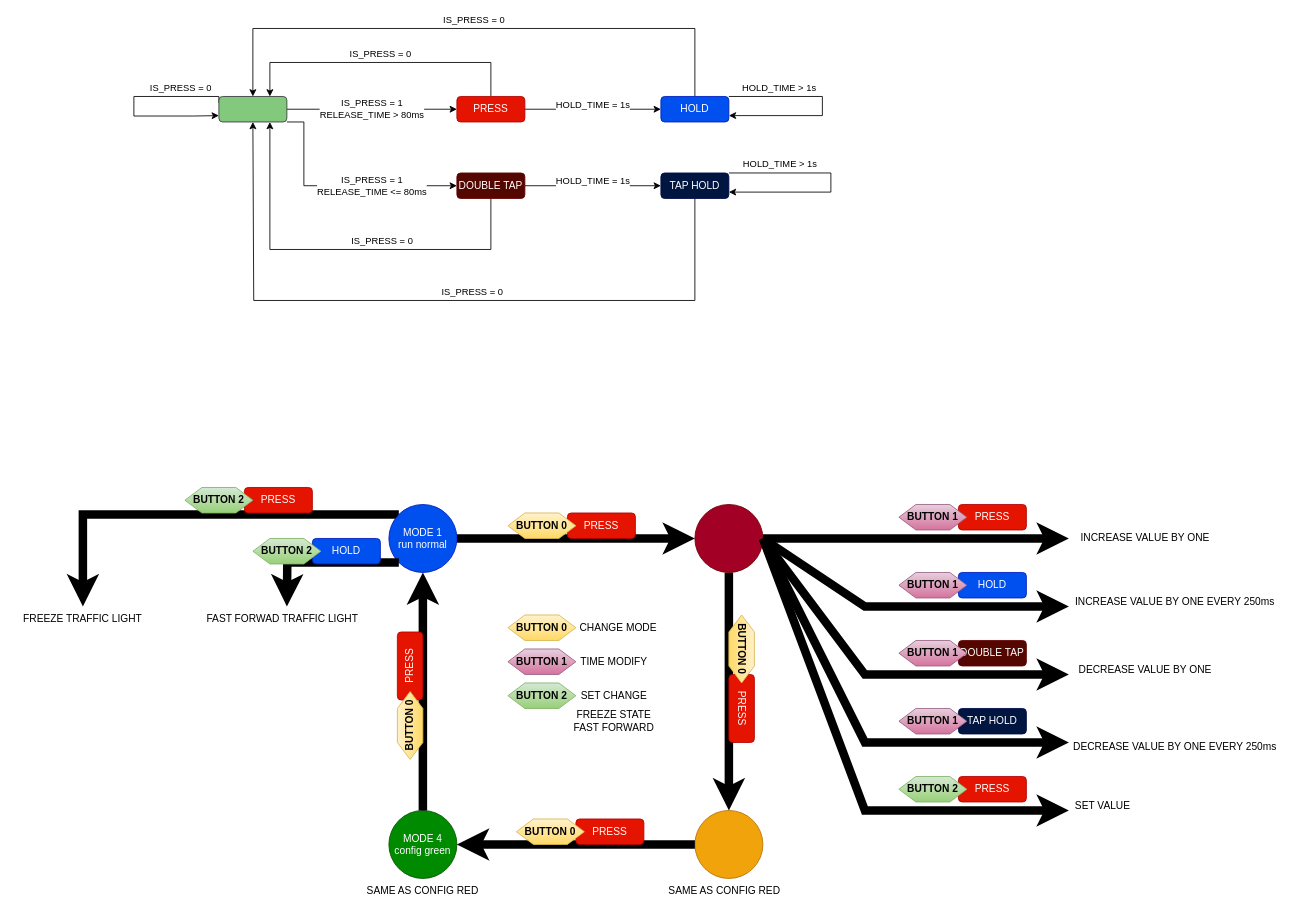
This 1295x919 diagram has some shape labels left out. Each missing label, with the centre of its shape:
"MODE 2 config red" goes at [728,538].
"MODE 3 config amber" goes at [728,844].
"RELEASE" goes at [252,109].
